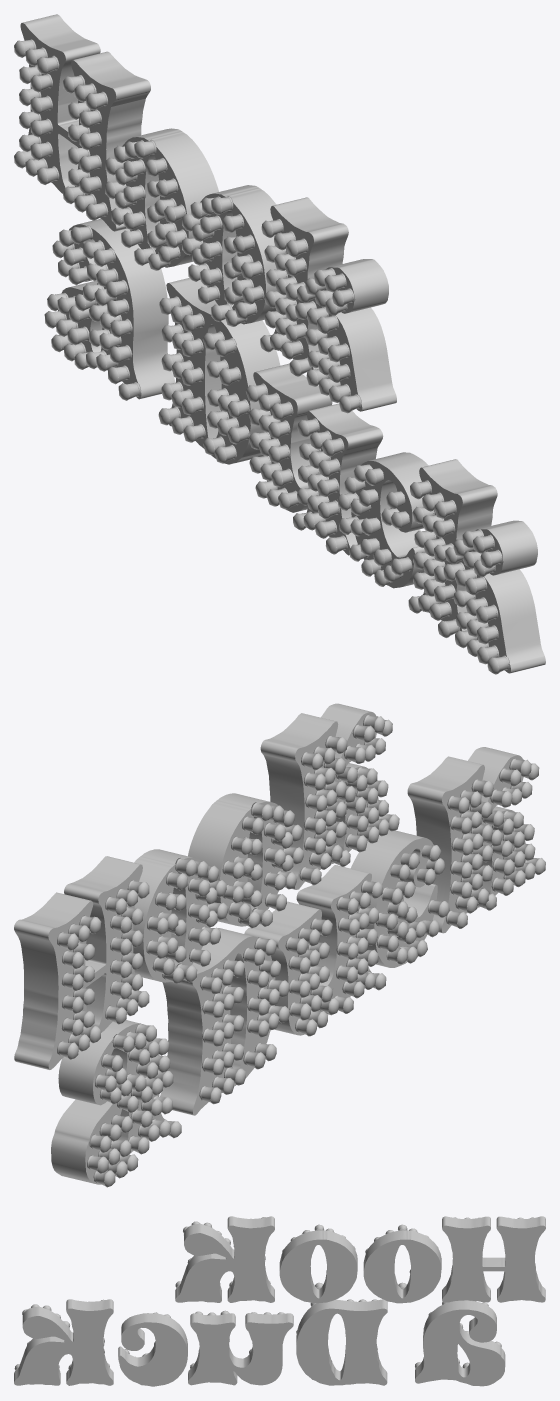
File: SM_Duckletters_01a.fbx
3 views of the same model, one above another, from view 1: azimuth 30°, elevation 25°; view 2: azimuth 150°, elevation 25°; view 3: azimuth 270°, elevation 25° (orthographic). The views are drawn at different scales.
Parts seen in each view (by area): view 1: SM_Duckletters_01a_LOD0; view 2: SM_Duckletters_01a_LOD0; view 3: SM_Duckletters_01a_LOD0.
Part boxes in pixels (x1,y1,x2,y2): SM_Duckletters_01a_LOD0: (14, 14, 545, 674); SM_Duckletters_01a_LOD0: (14, 703, 545, 1187); SM_Duckletters_01a_LOD0: (14, 1216, 545, 1386).
Size of the model in its own units: 25.24 by 417 by 139.
